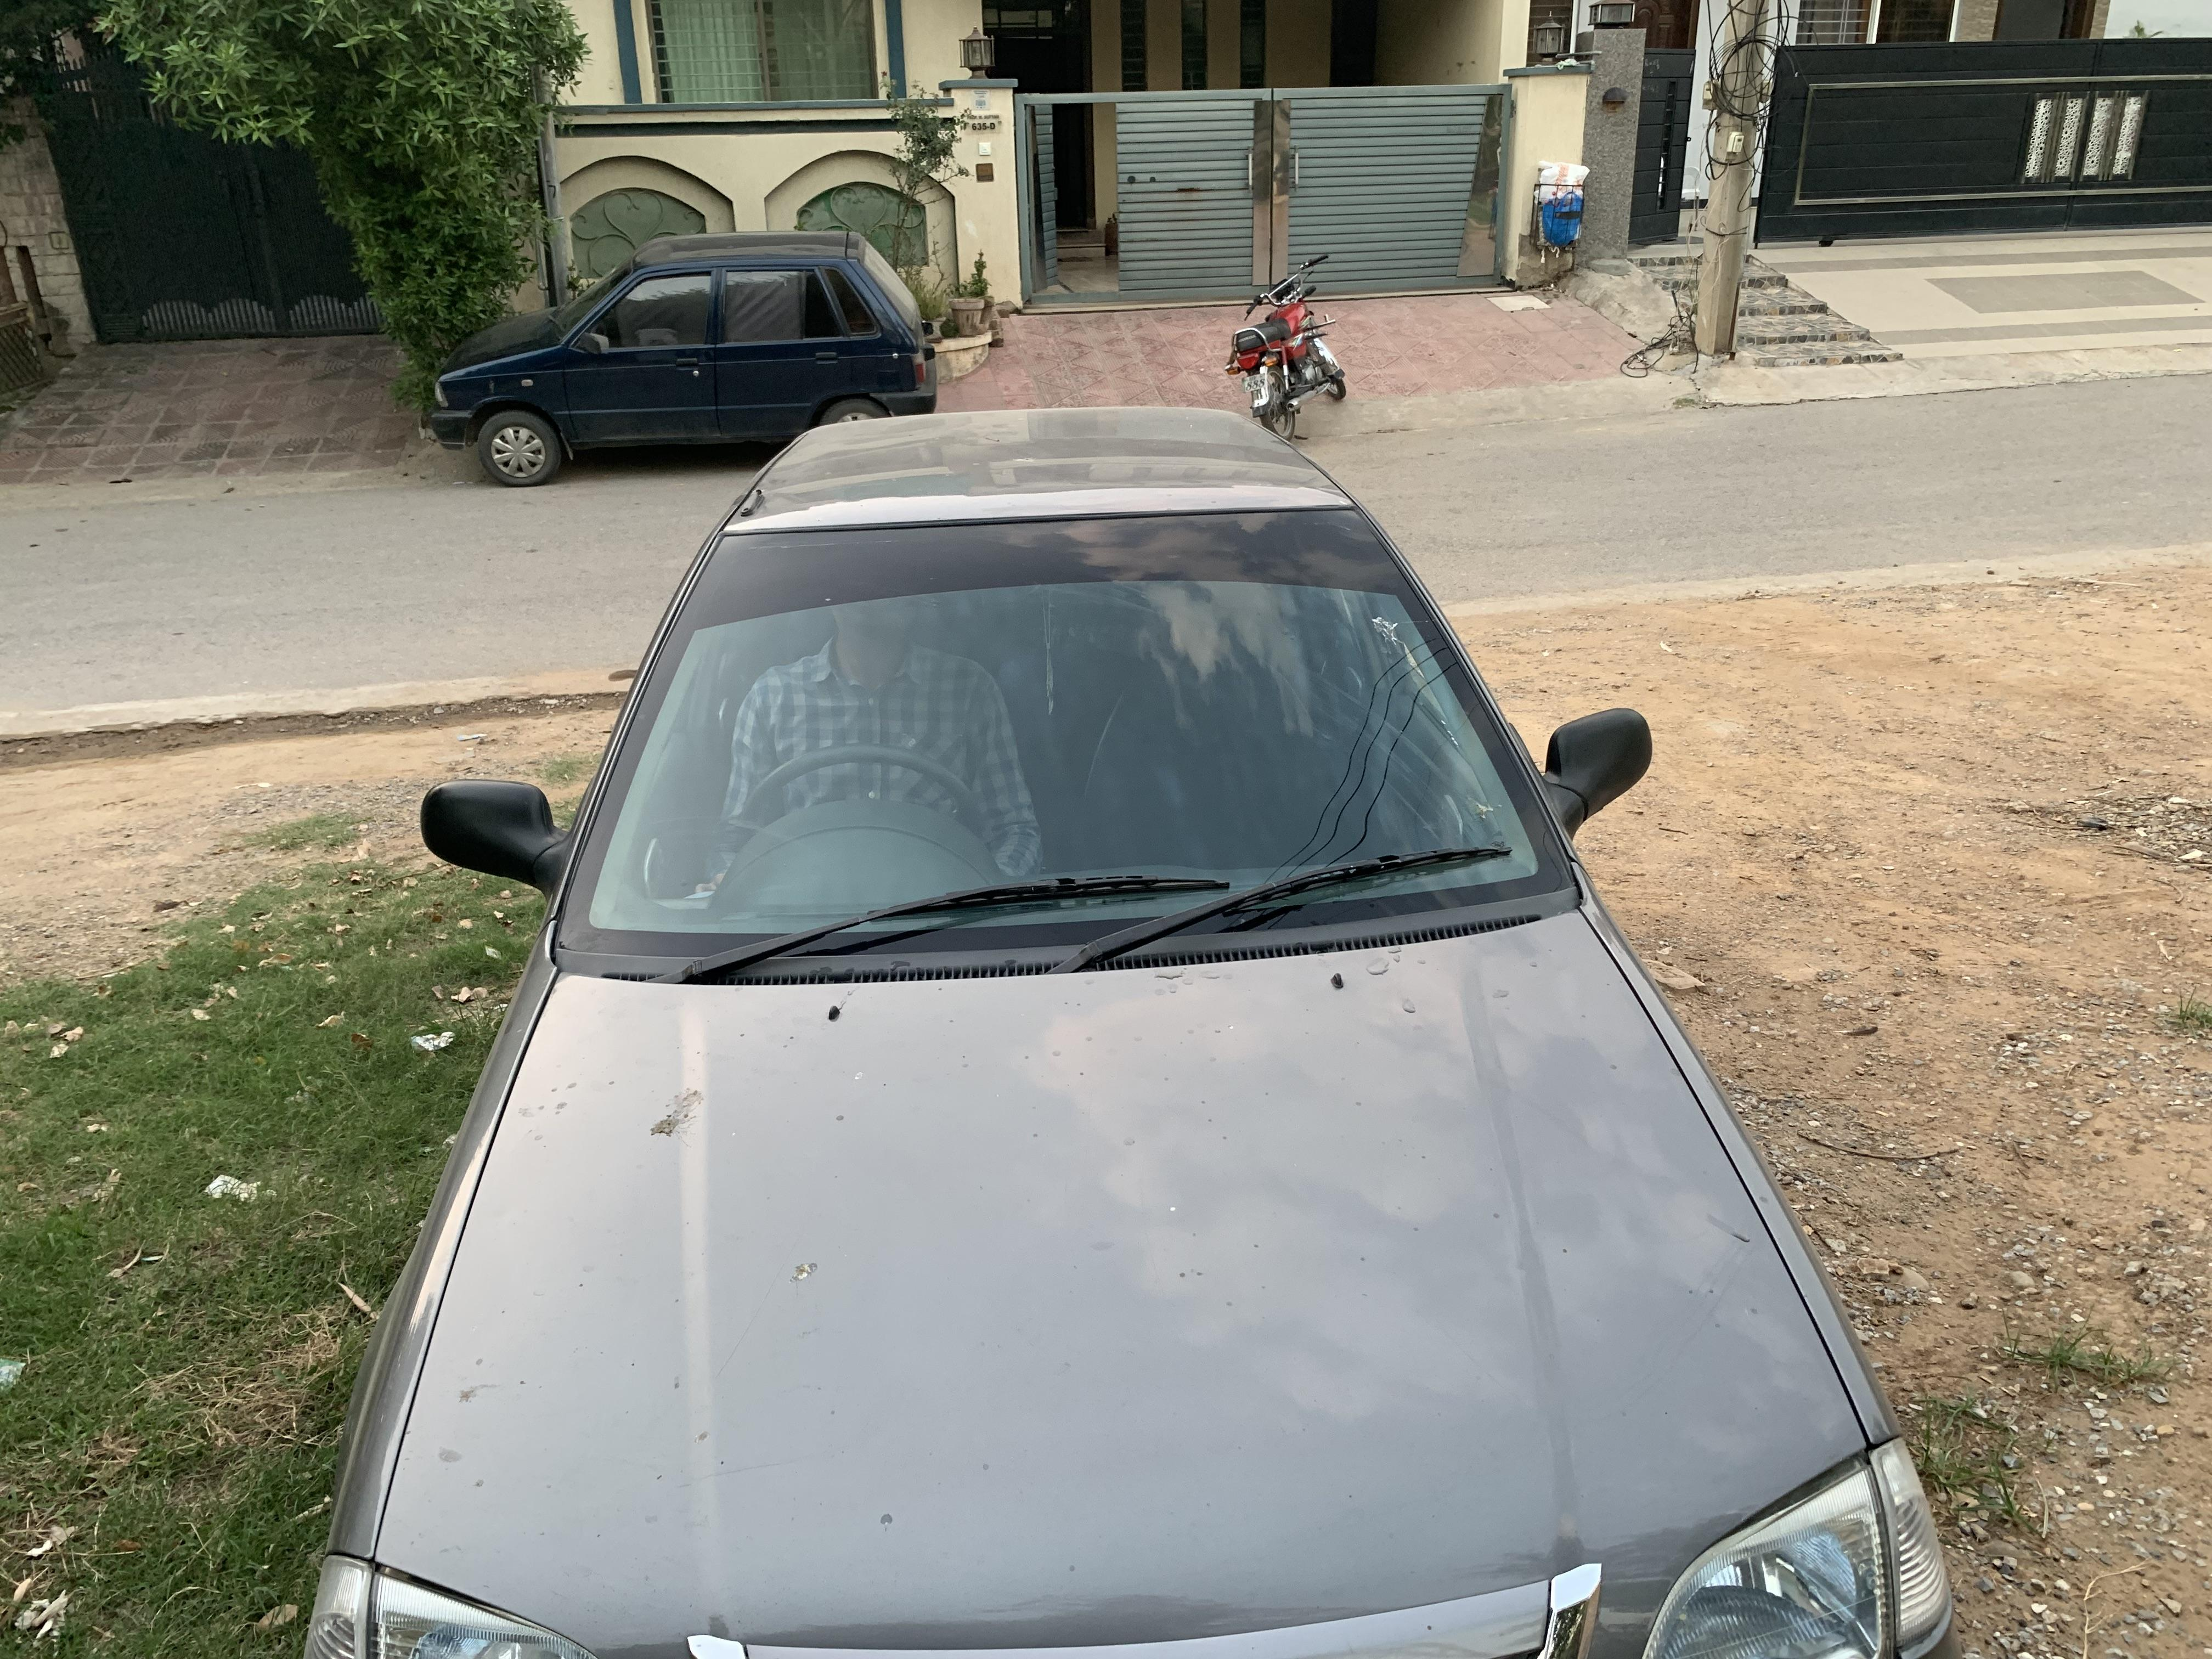windshield: (533, 498, 1620, 1009)
